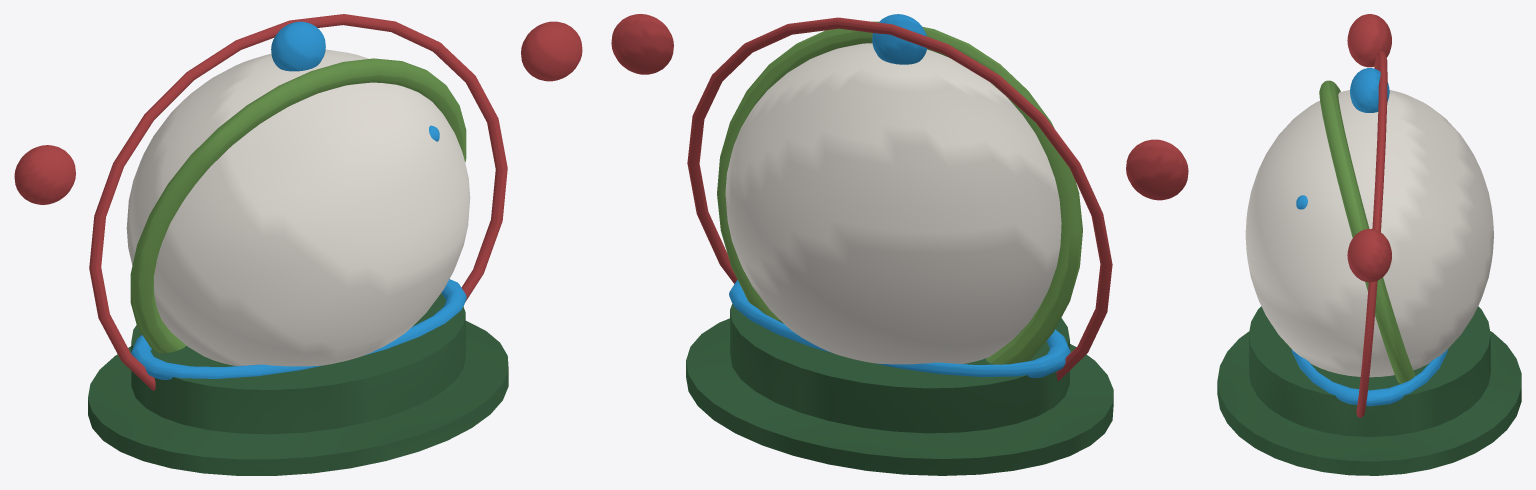
File: 0043_天文图鉴_土卫六.glb
The picture shows the model from 3 angles, left to right: view 1: azimuth 30°, elevation 25°; view 2: azimuth 150°, elevation 25°; view 3: azimuth 270°, elevation 25°; orthographic projection. The views are drawn at different scales.
Visible parts, largest first — view 1: card_0043; view 2: card_0043; view 3: card_0043.
Part boxes in pixels (box(x1,y1,x2,y2)): card_0043: box(14, 14, 582, 475); card_0043: box(611, 14, 1188, 475); card_0043: box(1217, 14, 1521, 475).
Size of the model in its own units: 1.52 by 1 by 0.82.
